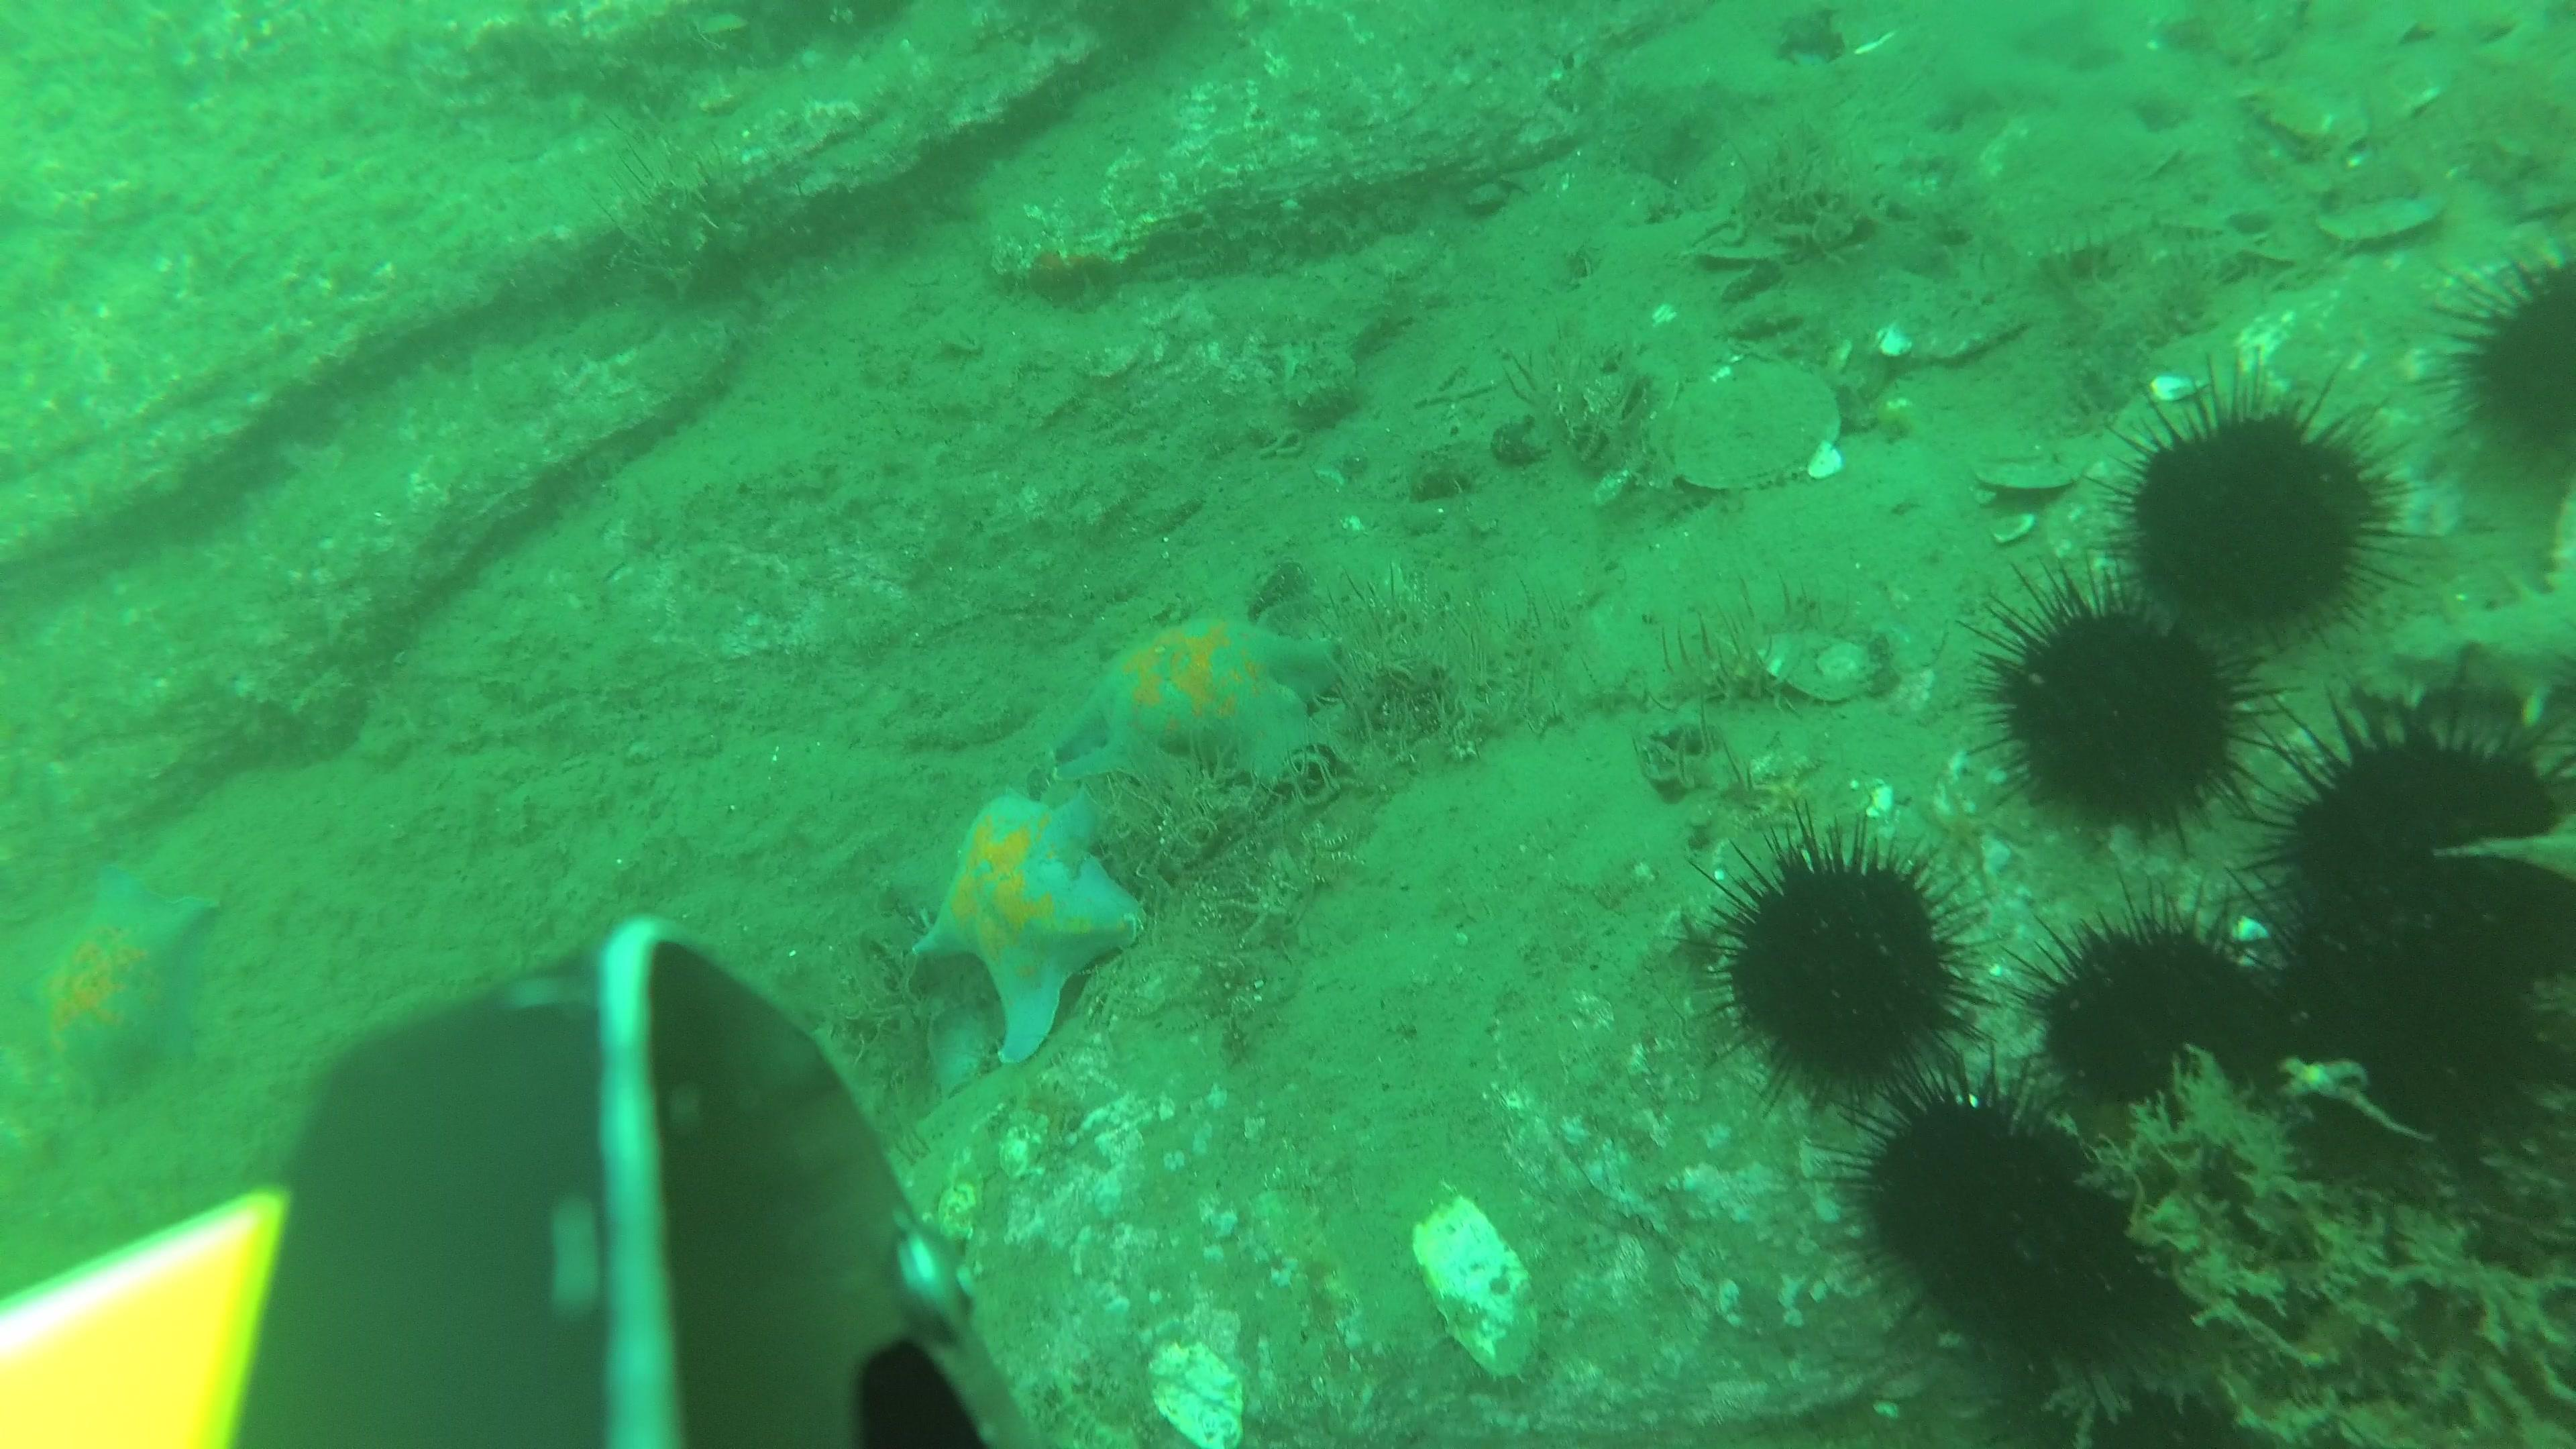echinus: (1668, 805, 1987, 1132), (1974, 561, 2300, 863), (2261, 665, 2576, 952), (2111, 361, 2420, 651), (2272, 883, 2576, 1161), (1856, 1081, 2121, 1346), (2017, 883, 2270, 1152), (2003, 1274, 2250, 1449), (2434, 237, 2576, 499)
holothurian: (2355, 478, 2576, 729)
scallop: (1663, 366, 1845, 492), (1762, 628, 1877, 702)
starfish: (911, 789, 1145, 1069), (1056, 614, 1345, 809), (39, 847, 218, 1104)
